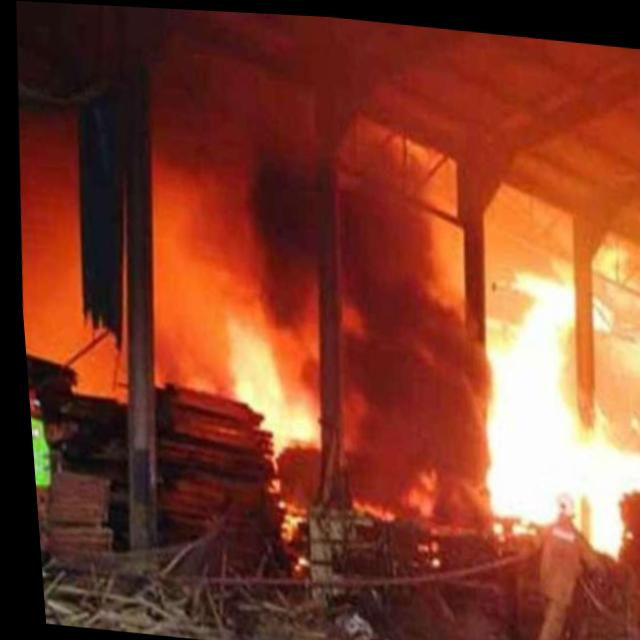fire: (450, 214, 640, 564), (207, 310, 335, 471), (338, 452, 446, 528), (266, 491, 305, 553)
